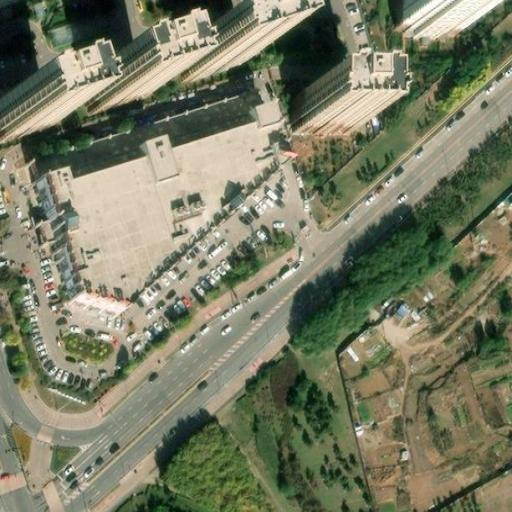building: (31, 109, 279, 310), (179, 29, 250, 78), (81, 56, 145, 108), (295, 84, 360, 122)
